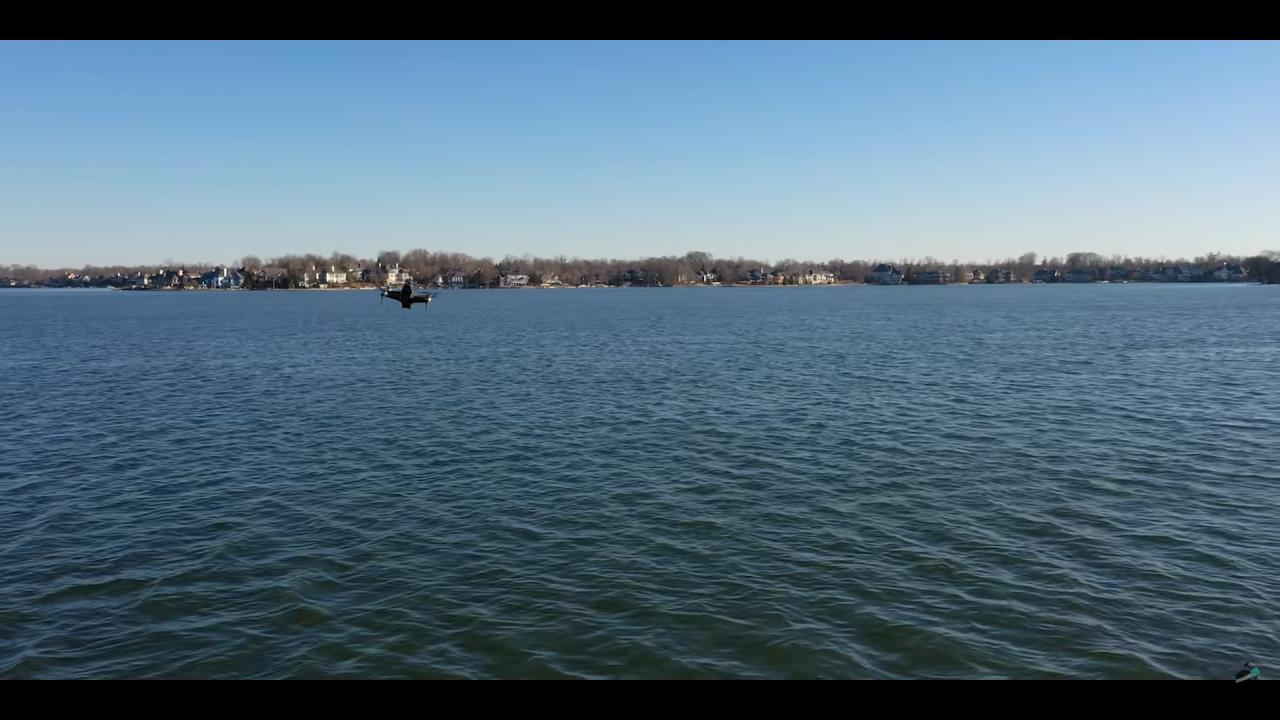Drone: (374, 269, 443, 319)
